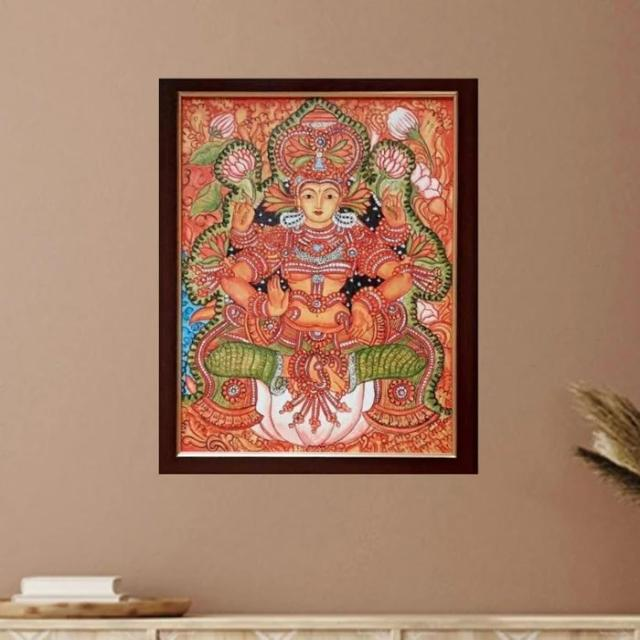painting: (158, 77, 479, 473)
